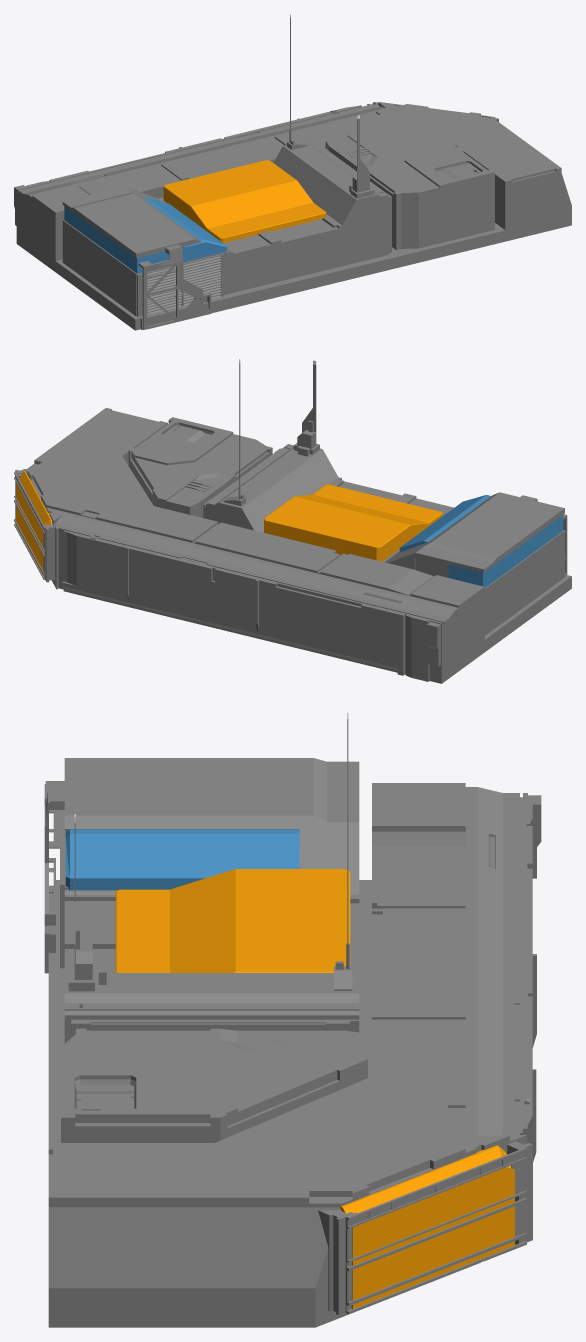
File: Building_G_Top.fbx
3 renders of one model, top to bottom at view 1: azimuth 30°, elevation 25°; view 2: azimuth 150°, elevation 25°; view 3: azimuth 270°, elevation 25°, orthographic. The views are drawn at different scales.
Parts seen in each view (by area): view 1: Building_G_Top_Base, Glass_Orange, Glass_Blue, Building_G_Top_Pannel, Building_G_Top_Frame_2; view 2: Building_G_Top_Base, Glass_Orange, Glass_Blue, Building_G_Top_Frame; view 3: Building_G_Top_Base, Glass_Orange, Glass_Blue, Building_G_Top_Frame, Building_G_Top_Frame_2, Building_G_Top_Pannel.
Boxes of the visible parts, x1,y1,x2,y2 form: Building_G_Top_Base: [14, 17, 571, 330]; Glass_Orange: [163, 160, 326, 243]; Glass_Blue: [64, 197, 226, 273]; Building_G_Top_Pannel: [137, 253, 223, 316]; Building_G_Top_Frame_2: [138, 244, 211, 329]; Building_G_Top_Base: [25, 362, 571, 683]; Glass_Orange: [16, 471, 442, 576]; Glass_Blue: [399, 495, 563, 587]; Building_G_Top_Frame: [14, 469, 54, 582]; Building_G_Top_Base: [48, 719, 541, 1327]; Glass_Orange: [115, 869, 514, 1308]; Glass_Blue: [65, 829, 299, 890]; Building_G_Top_Frame: [318, 1141, 532, 1315]; Building_G_Top_Frame_2: [44, 781, 64, 973]; Building_G_Top_Pannel: [60, 810, 64, 968].
Size of the model in its own units: 15406 by 6985 by 7613.
